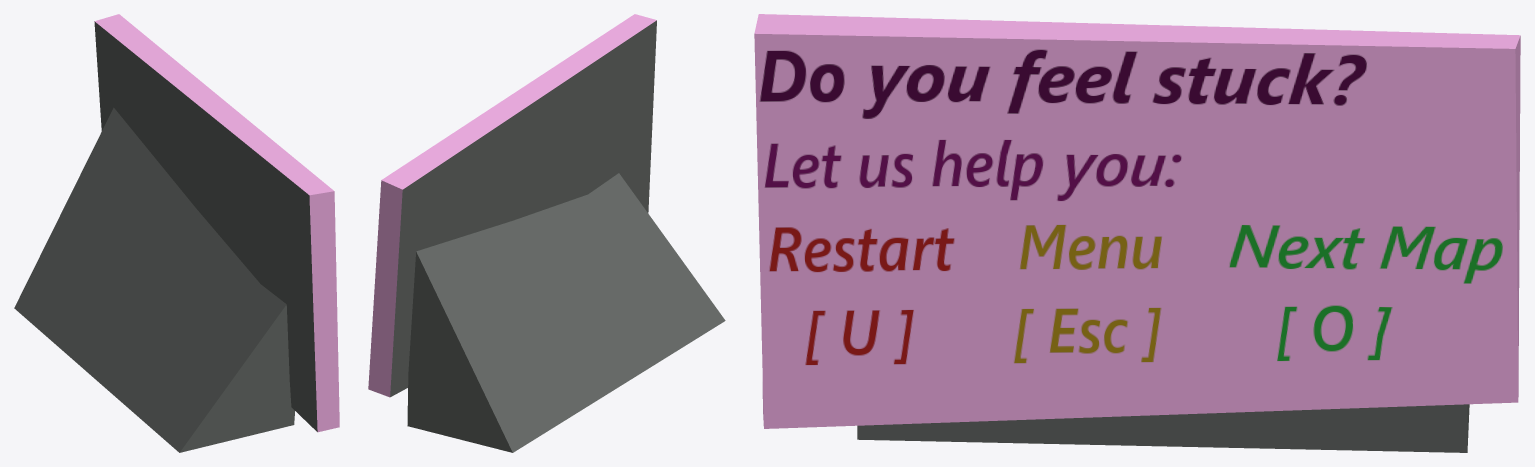
Rendered from Info_Help.fbx.
3 views of the same model, side by side, from view 1: azimuth 30°, elevation 25°; view 2: azimuth 150°, elevation 25°; view 3: azimuth 270°, elevation 25° (orthographic). The views are drawn at different scales.
Parts seen in each view (by area): view 1: Cube; view 2: Cube; view 3: Cube.
Boxes of the visible parts, x1,y1,x2,y2 form: Cube: [14, 14, 339, 452]; Cube: [368, 14, 725, 452]; Cube: [754, 14, 1520, 452].
Size of the model in its own units: 416 by 157 by 248.
Materials: 1 (1 with a texture image).
